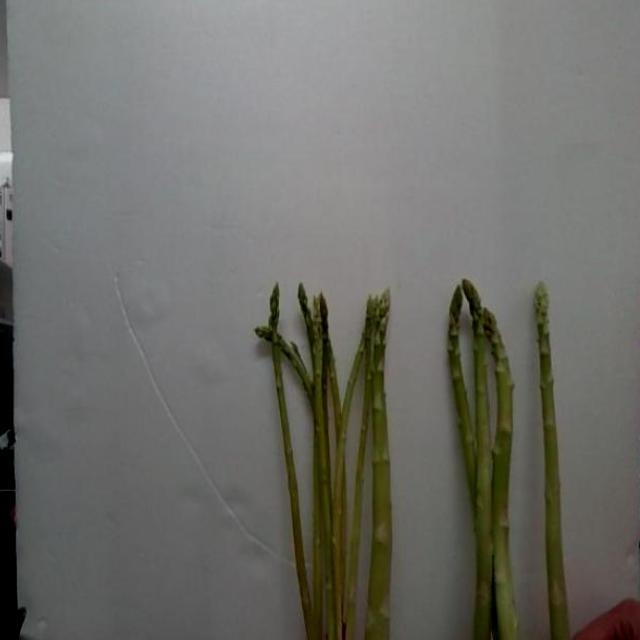aspargus: (535, 283, 569, 640), (483, 301, 517, 640), (362, 284, 391, 640)
